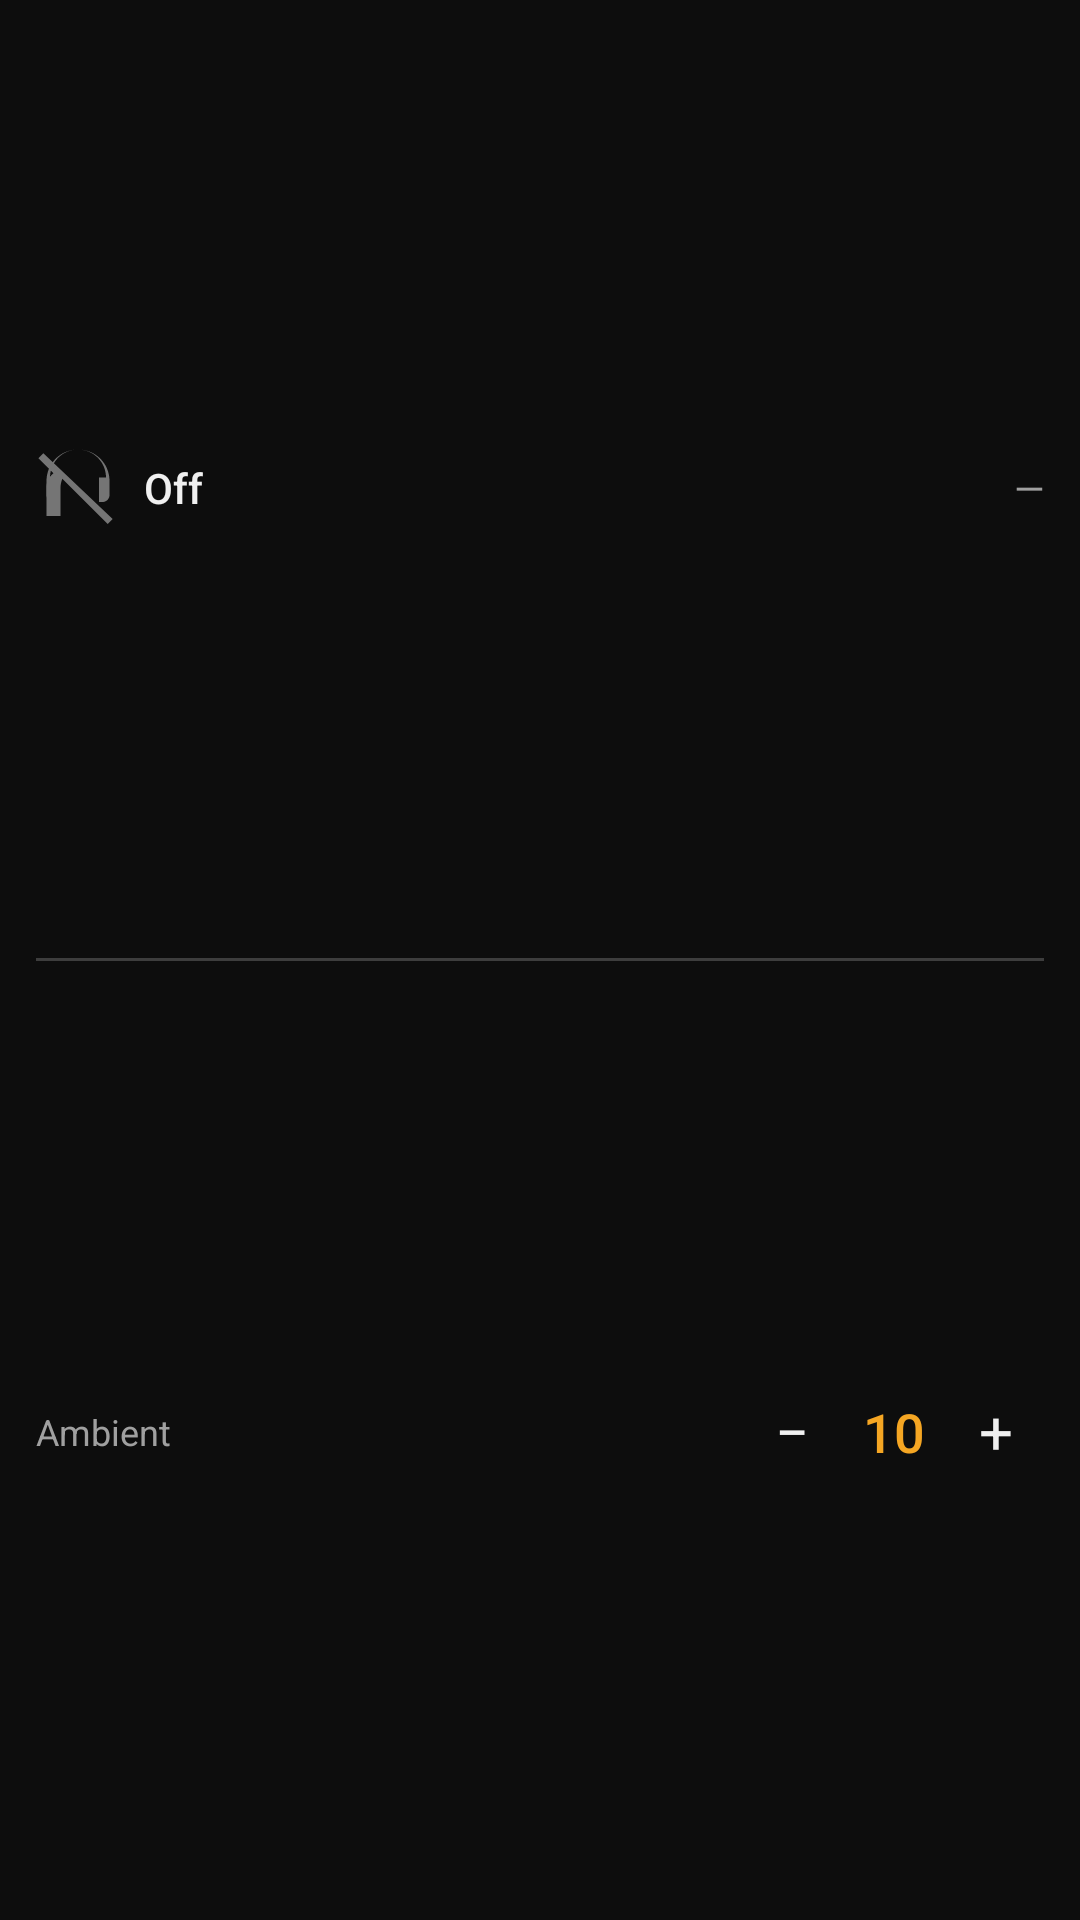

Icon bounding boxes for this 1080x1920 phone screenshot, format (x1, y1, x2, y2):
ANC: (38, 451, 112, 524)
